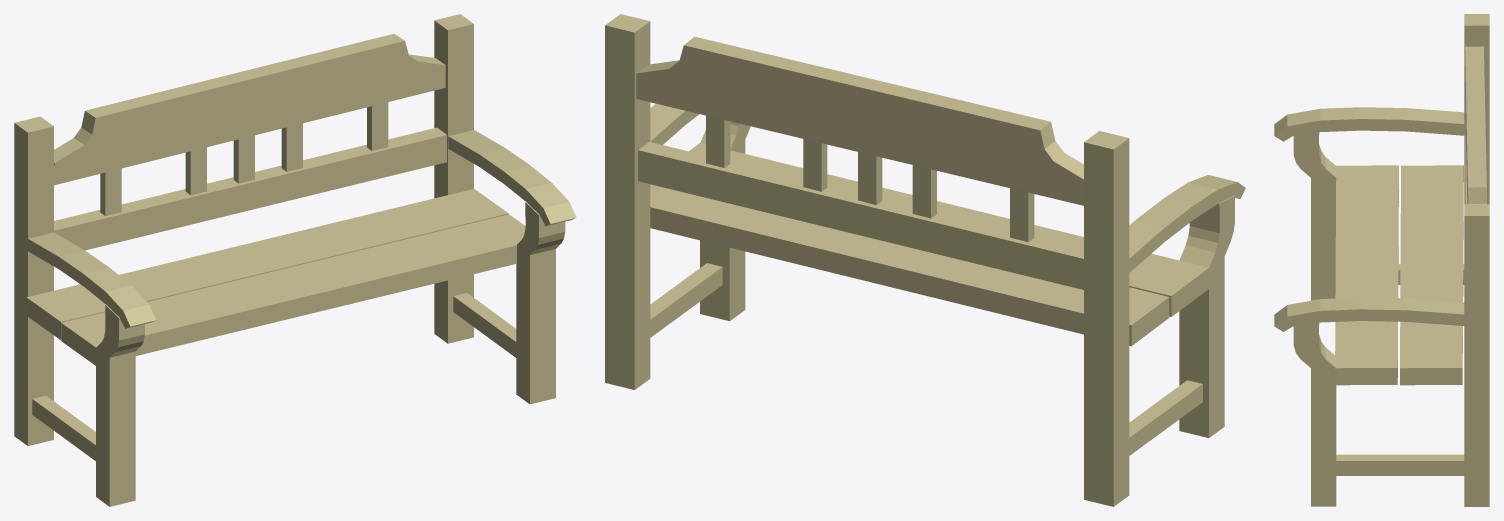
The model's file is Chair_Backyard_Bench_231109.glb.
The picture shows the model from 3 angles, left to right: view 1: azimuth 30°, elevation 25°; view 2: azimuth 150°, elevation 25°; view 3: azimuth 270°, elevation 25°; orthographic projection. The views are drawn at different scales.
Parts seen in each view (by area): view 1: Backyard_Bench; view 2: Backyard_Bench; view 3: Backyard_Bench.
Part boxes in pixels (bbox=[...]): Backyard_Bench: bbox=[14, 14, 576, 506]; Backyard_Bench: bbox=[605, 14, 1245, 506]; Backyard_Bench: bbox=[1274, 14, 1489, 506].
Size of the model in its own units: 1.91 by 1.28 by 0.8572.
Materials: 1 (1 with a texture image).
